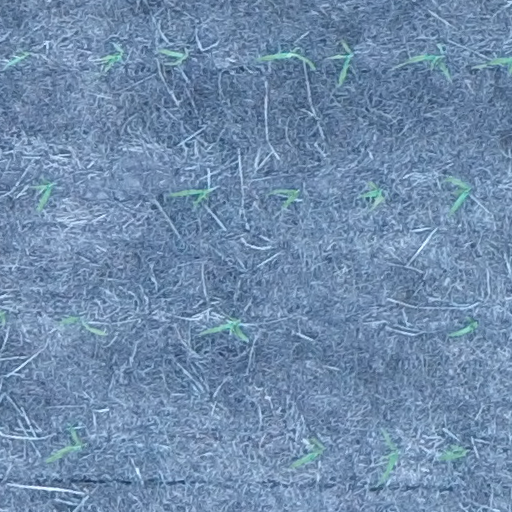planta: (45, 424, 84, 463), (255, 46, 316, 69), (201, 315, 247, 341), (444, 174, 471, 216), (406, 53, 451, 77), (378, 430, 398, 483), (292, 436, 325, 467), (332, 37, 353, 85), (60, 315, 108, 336), (168, 186, 211, 207), (29, 179, 54, 211), (358, 180, 385, 208), (448, 314, 479, 338), (269, 188, 300, 207), (158, 47, 186, 65), (99, 49, 124, 68), (438, 446, 467, 460)
